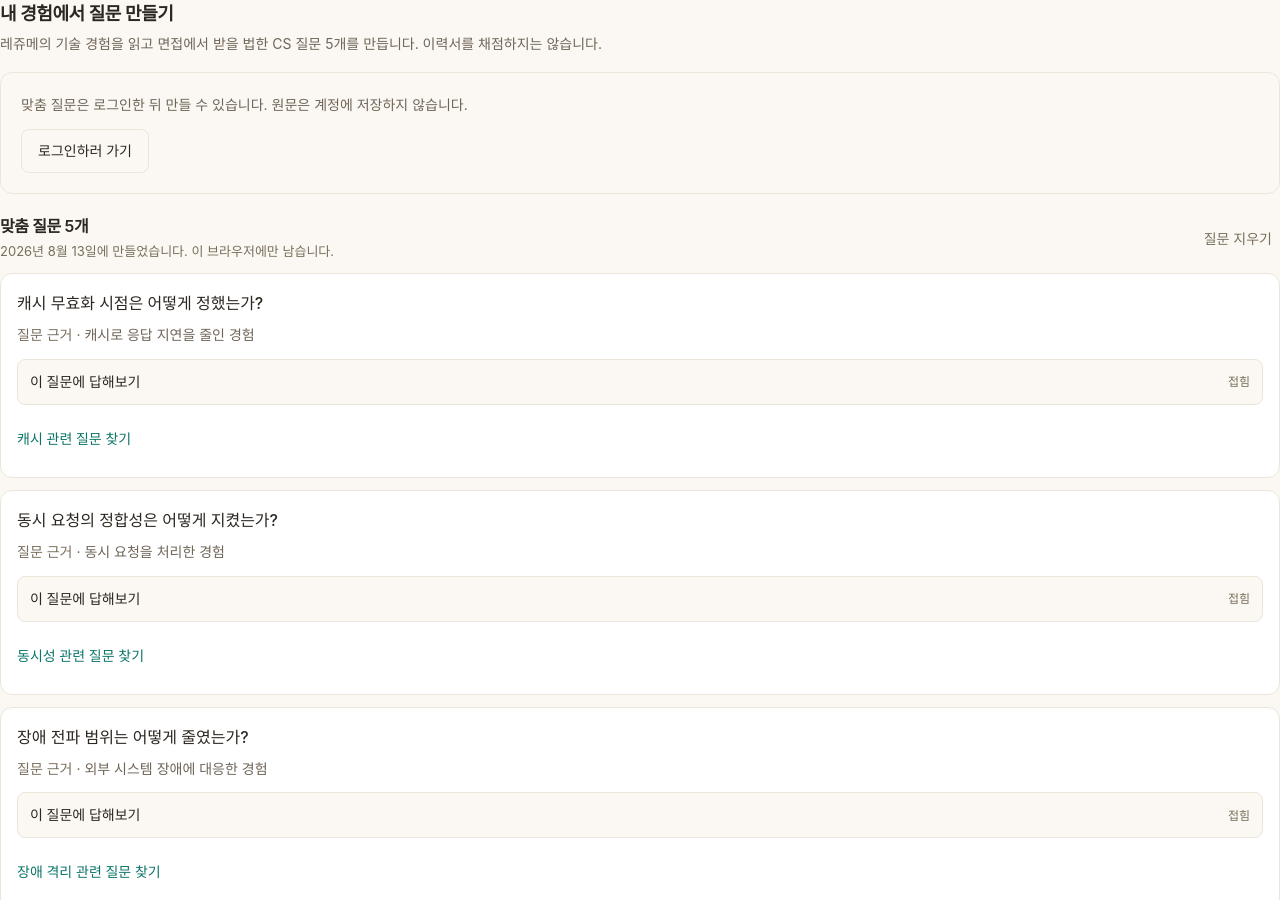
Test: 레쥬메 맞춤 질문 화면 › 저장된 질문을 직접 지울 수 있다
The image size is (1280, 900).
Check: the text "캐시 무효화 시점은 어떻게 정했는가?" is shown, box [17,293,263,313]
Click the button "질문 지우기": x=1238, y=239 [1196,217,1279,261]
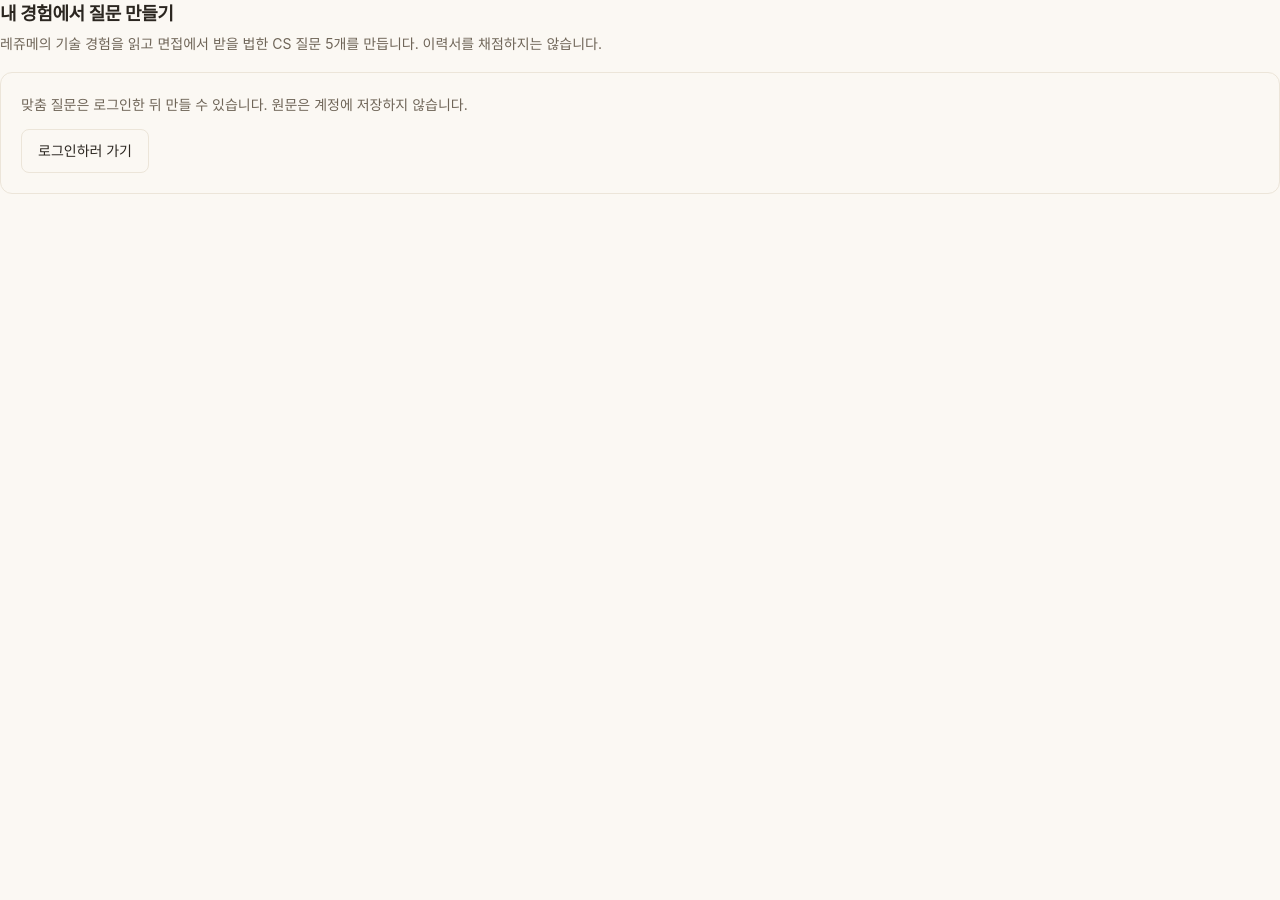
Check: the text "캐시 무효화 시점은 어떻게 정했는가?" is gone
